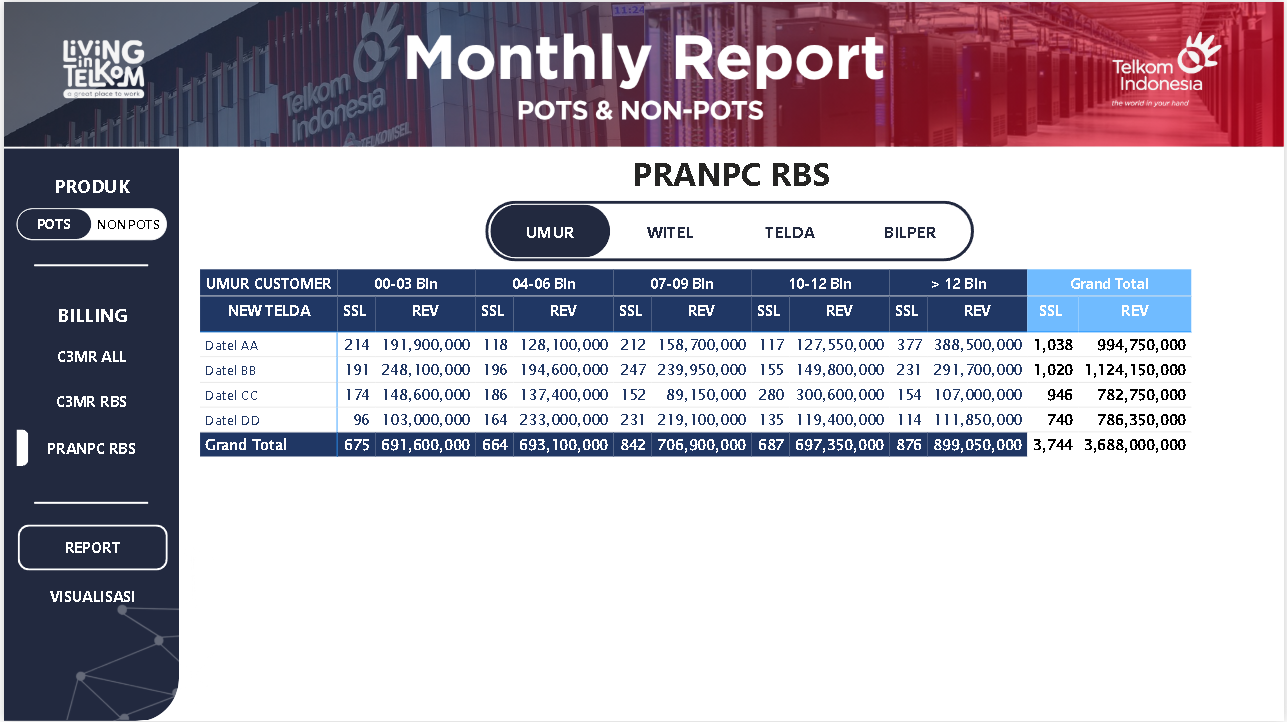

What the dashboard file says about the page in this screenshot:
{"tool":"powerbi","page":{"name":"POTS","canvas":[1280,720],"ordinal":0},"visuals":[{"type":"textbox","title":"Judul PRANPC RBS","box":[173.8,145,1106.2,53.8],"z":2000},{"type":"shape","title":"Sidebar","box":[0,146.2,175,573.8],"z":5000},{"type":"pageNavigator","box":[12.2,206.7,150,32.2],"z":6000},{"type":"image","title":"gambar sidebar","box":[36.9,412.3,190,307.5],"z":7000},{"type":"shape","title":"Pemisah produk billing","box":[30,242,114.6,41.5],"z":21000},{"type":"textbox","title":"Text box PRODUK","box":[6.2,166.2,163.1,36.9],"z":22000},{"type":"textbox","title":"Text box BILLING","box":[6,295,163,36],"z":23000},{"type":"actionButton","title":"Button C3MR ALL","box":[12.6,330.9,150,45.7],"z":24000},{"type":"actionButton","title":"Button PraNPC","box":[12.4,422,150,46.5],"z":25000},{"type":"actionButton","title":"Button PraNPC","box":[12.6,376.5,150,45.7],"z":26000},{"type":"shape","title":"Penanda billing pranpc","box":[12.9,427.1,11.8,36.5],"z":27000},{"type":"shape","title":"pemisah billing report","box":[30,480.4,114.4,41.7],"z":30000},{"type":"actionButton","title":"Button Report PRANPC BILPER ON","box":[13.8,521.5,150,46.2],"z":31000},{"type":"actionButton","title":"Button Visualisasi PRANPC OFF","box":[13.6,570.7,150,45],"z":55500},{"type":"tableEx","title":"PRANPC RBS BILPER","fields":{"Values":["Mapping New Telda.NEW TELDA","Sum(PRANPC RBS BILPER.Billing_L11 )","Sum(PRANPC RBS BILPER.Billing_Amount )","Sum(PRANPC RBS BILPER.Pencairan_Bayar )","PRANPC RBS BILPER.PRANPC BILPER_%Bayar","Sum(PRANPC RBS BILPER.Pencairan_Claim )","PRANPC RBS BILPER.PRANPC BILPER_%Claim","Sum(PRANPC RBS BILPER.Total Pencairan_L11 )","Sum(PRANPC RBS BILPER.Total Pencarian_Amount )","PRANPC RBS BILPER.PRANPC BILPER_%L11","PRANPC RBS BILPER.PRANPC BILPER_%Ammount","Sum(PRANPC RBS BILPER.Saldo_L11 )"]},"box":[211.2,262.5,1032.5,201.2],"z":64000},{"type":"shape","title":"outline button pranpc rbs","box":[481.5,198.9,488.8,60.6],"z":66000},{"type":"actionButton","title":"Button Umur PRANPC Putih","box":[486,202.2,120,54.7],"z":67000},{"type":"actionButton","title":"Button Witel PRANPC Putih","box":[605.7,202.4,120,52.9],"z":68000},{"type":"actionButton","title":"Button Telda PRANPC Putih","box":[725.7,202.4,120,52.9],"z":69000},{"type":"actionButton","title":"Button Bilper PRANPC","box":[846,202.9,120,52.7],"z":74000}]}

Visuals, with their boxes in screenshot pixels (x1, y1, x2, y2), scaled from the page's 1280x720 canvas onto the 1287x722 screenshot:
"Judul PRANPC RBS" textbox: bbox(175, 145, 1286, 199)
"Sidebar" shape: bbox(0, 147, 176, 721)
pageNavigator: bbox(12, 207, 163, 240)
"gambar sidebar" image: bbox(37, 413, 228, 721)
"Pemisah produk billing" shape: bbox(30, 243, 145, 284)
"Text box PRODUK" textbox: bbox(6, 167, 170, 204)
"Text box BILLING" textbox: bbox(6, 296, 170, 332)
"Button C3MR ALL" actionButton: bbox(13, 332, 163, 378)
"Button PraNPC" actionButton: bbox(12, 423, 163, 470)
"Button PraNPC" actionButton: bbox(13, 378, 163, 423)
"Penanda billing pranpc" shape: bbox(13, 428, 25, 465)
"pemisah billing report" shape: bbox(30, 482, 145, 524)
"Button Report PRANPC BILPER ON" actionButton: bbox(14, 523, 165, 569)
"Button Visualisasi PRANPC OFF" actionButton: bbox(14, 572, 164, 617)
"PRANPC RBS BILPER" tableEx: bbox(212, 263, 1251, 465)
"outline button pranpc rbs" shape: bbox(484, 199, 976, 260)
"Button Umur PRANPC Putih" actionButton: bbox(489, 203, 609, 258)
"Button Witel PRANPC Putih" actionButton: bbox(609, 203, 730, 256)
"Button Telda PRANPC Putih" actionButton: bbox(730, 203, 850, 256)
"Button Bilper PRANPC" actionButton: bbox(851, 203, 971, 256)
